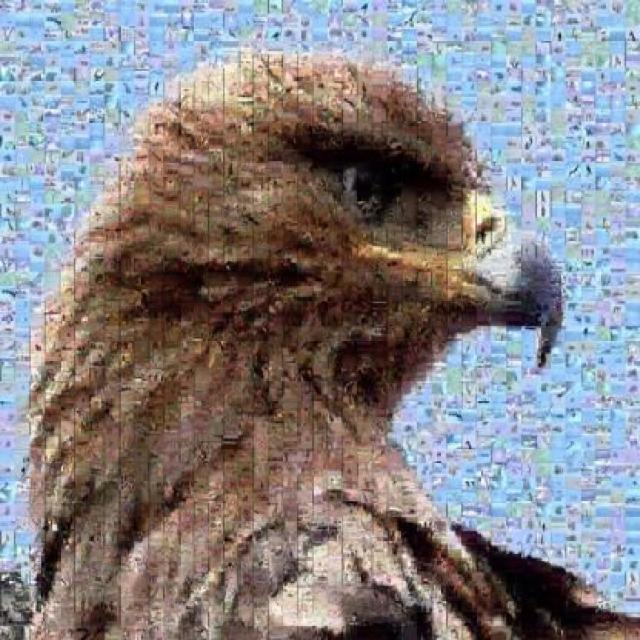Eagle: (39, 46, 568, 640)
